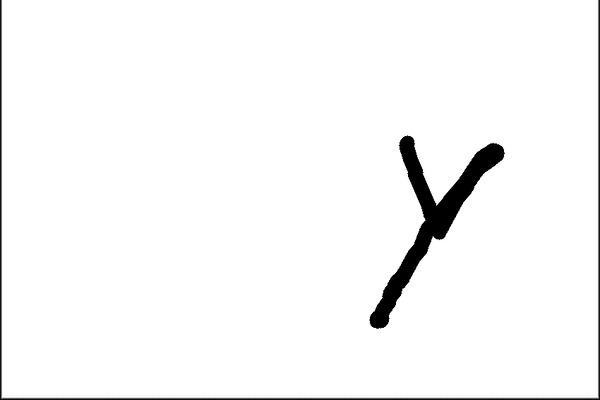Y: (347, 123, 533, 332)
